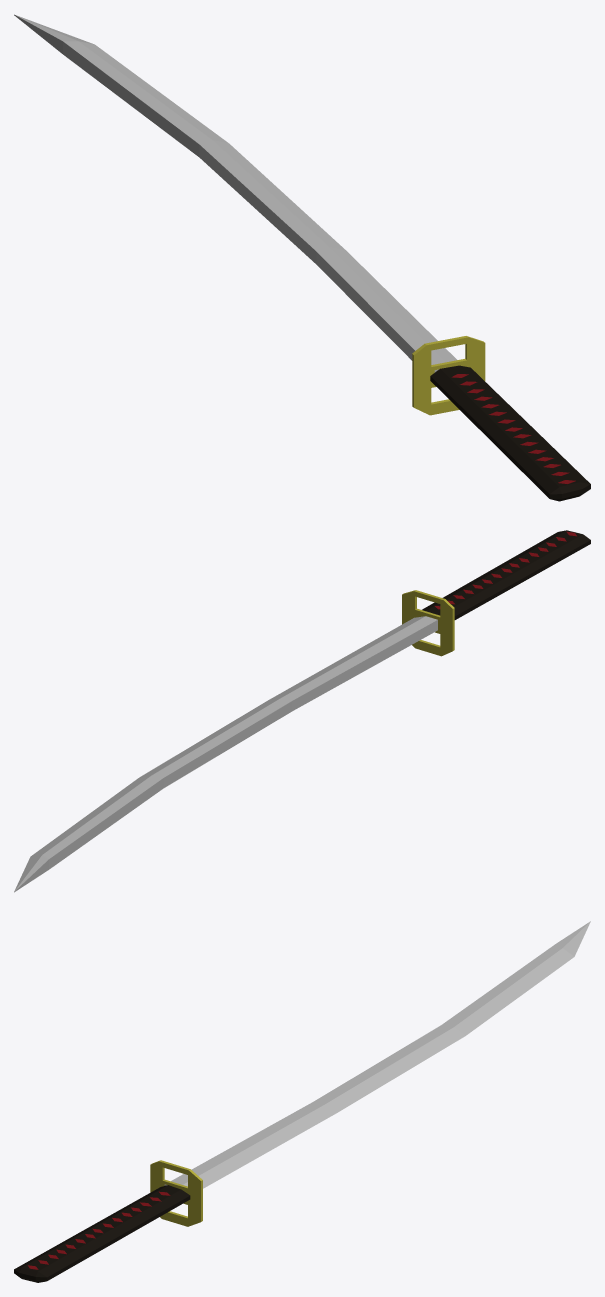
The model's file is katana.fbx.
3 views of the same model, one above another, from view 1: azimuth 30°, elevation 25°; view 2: azimuth 150°, elevation 25°; view 3: azimuth 330°, elevation 25° (orthographic). The views are drawn at different scales.
Parts seen in each view (by area): view 1: Plane.001, Plane, Cube; view 2: Plane.001, Plane, Cube; view 3: Plane.001, Plane, Cube.
Boxes of the visible parts, x1,y1,x2,y2 form: Plane.001: (14, 14, 457, 372); Plane: (430, 365, 590, 501); Cube: (412, 336, 485, 415); Plane.001: (14, 616, 437, 892); Plane: (422, 530, 590, 619); Cube: (402, 590, 454, 656); Plane.001: (164, 921, 590, 1188); Plane: (14, 1185, 190, 1282); Cube: (150, 1160, 202, 1226).
Bounding box in the file's own units: 71.21 × 39.38 × 635.
